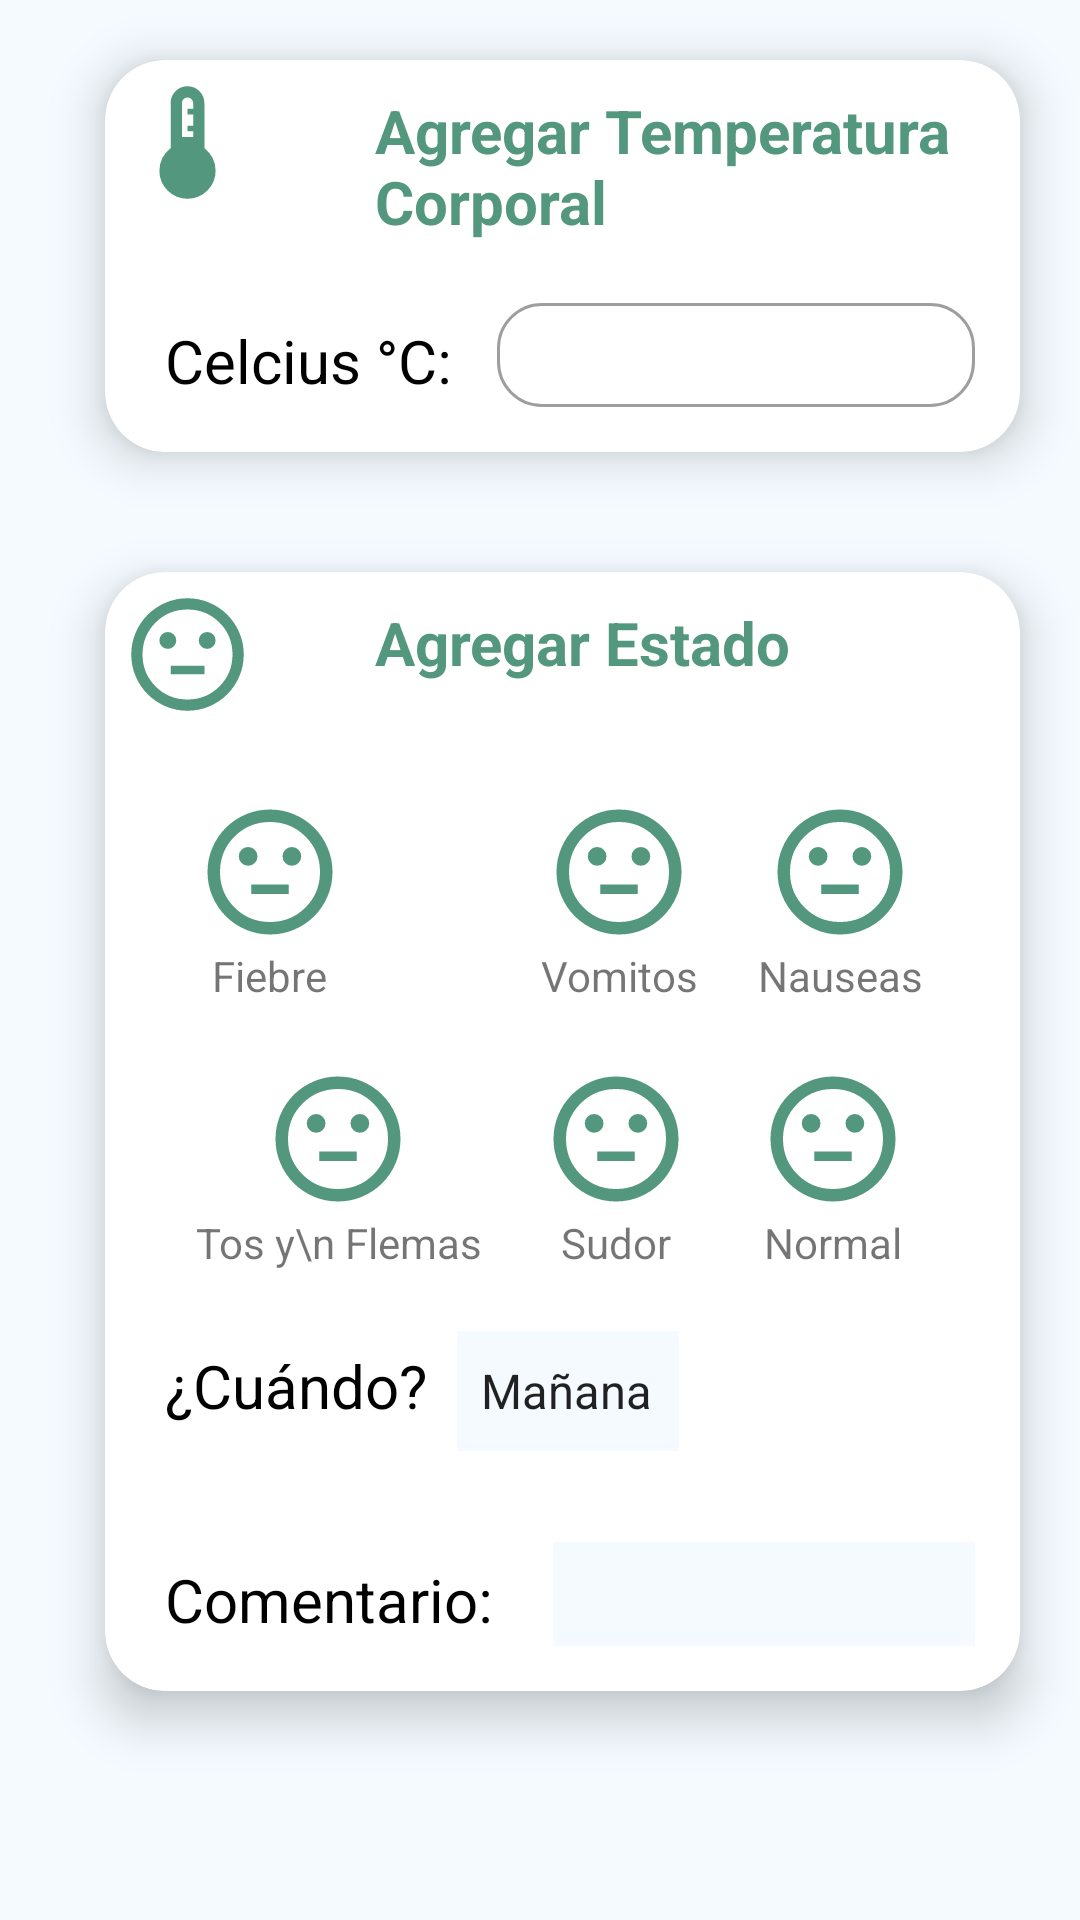

Locate icon controls on the screen. Image size 1080x1920, boxes as bbox=[x1, y1, x2, y2].
termometro: bbox=[159, 86, 216, 199]
